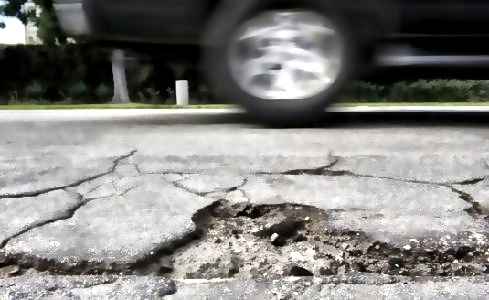pothole: (126, 194, 411, 284)
